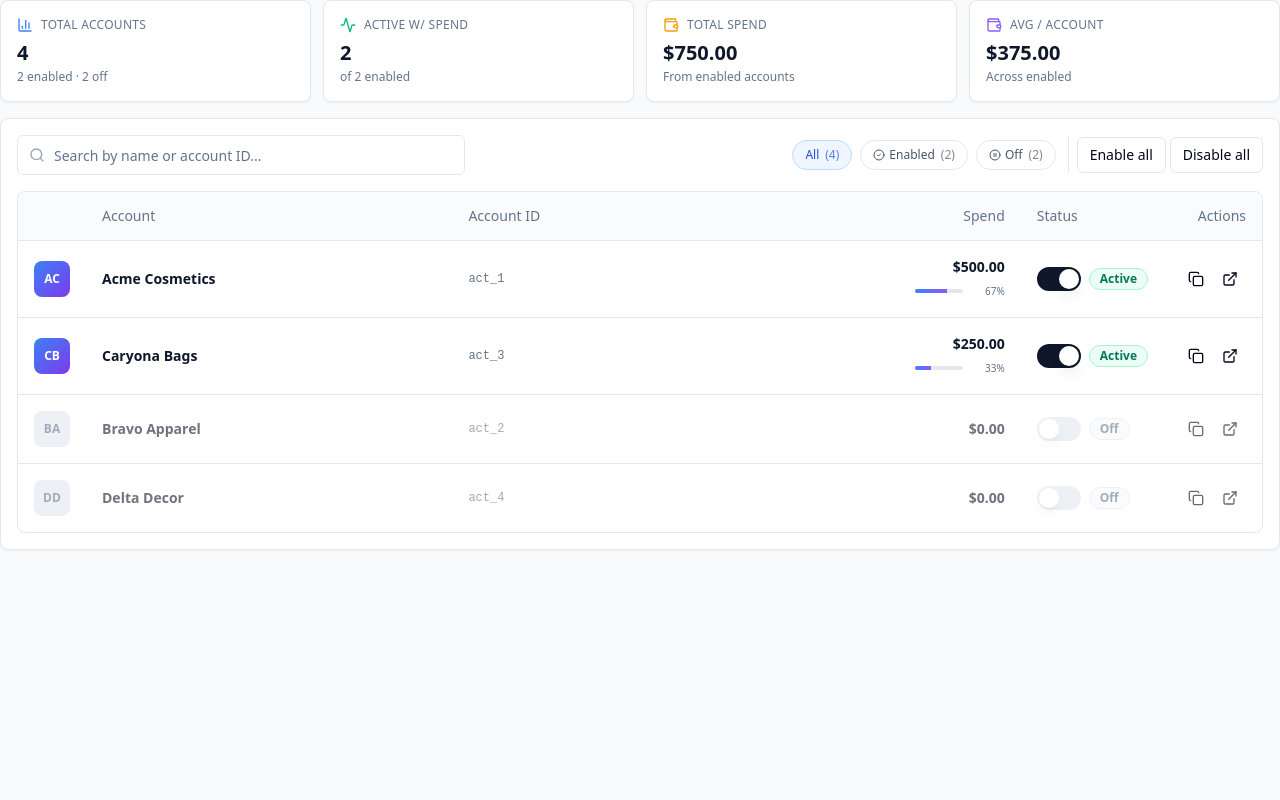
Scenario: FacebookAccountsTable › filters by enabled status
Click the button "Enabled (2)": (914, 155) left=860, top=140, right=968, bottom=170
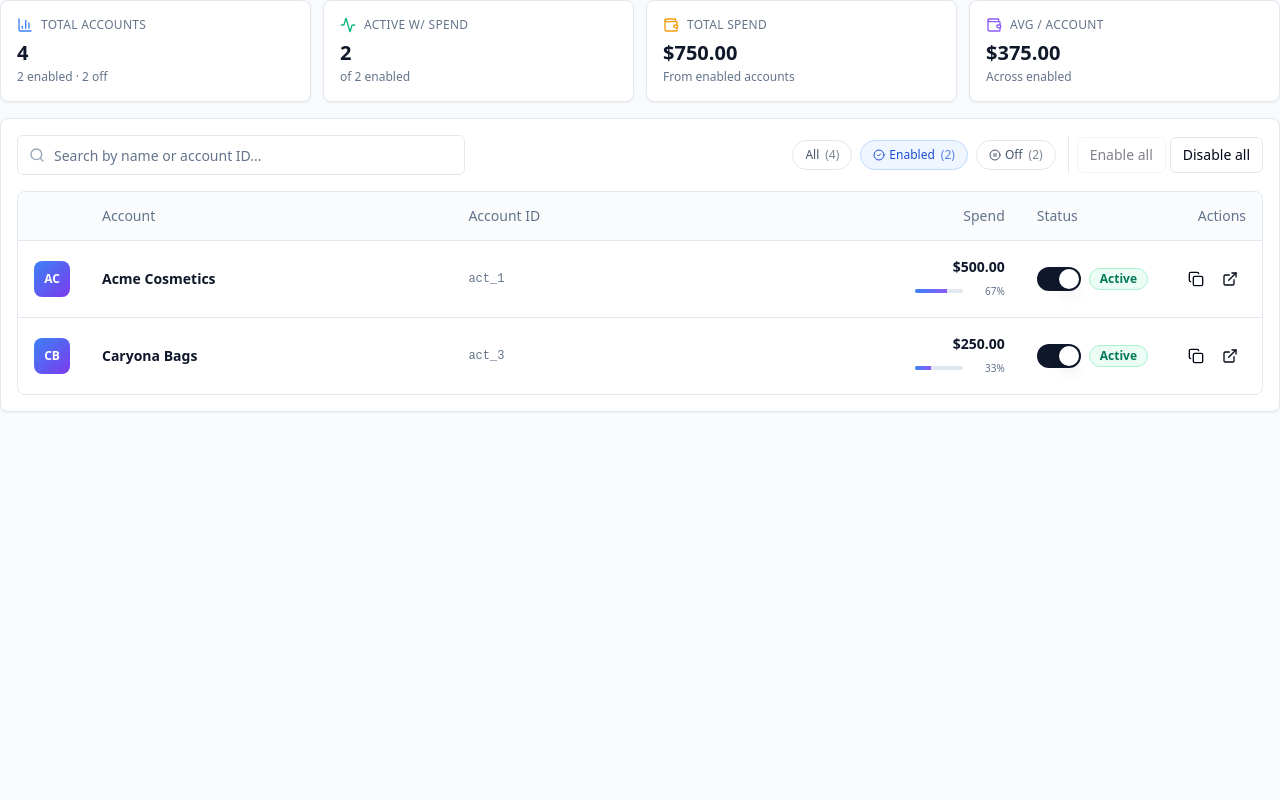
Expected: the text "Acme Cosmetics" is shown, left=102, top=268, right=216, bottom=288
Expected: the text "Bravo Apparel" is gone
Expected: the text "Delta Decor" is gone
